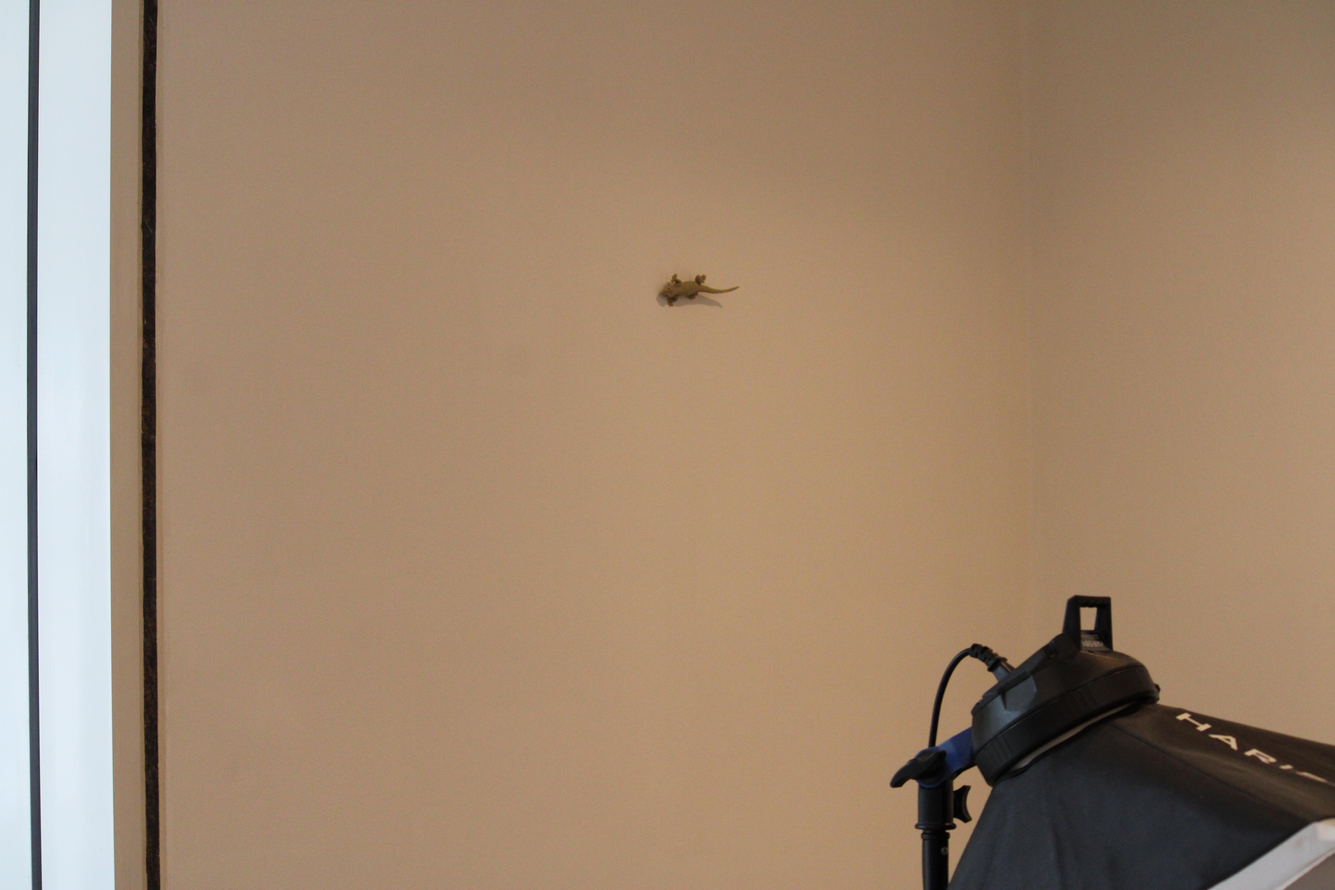lizard: (650, 261, 739, 311)
